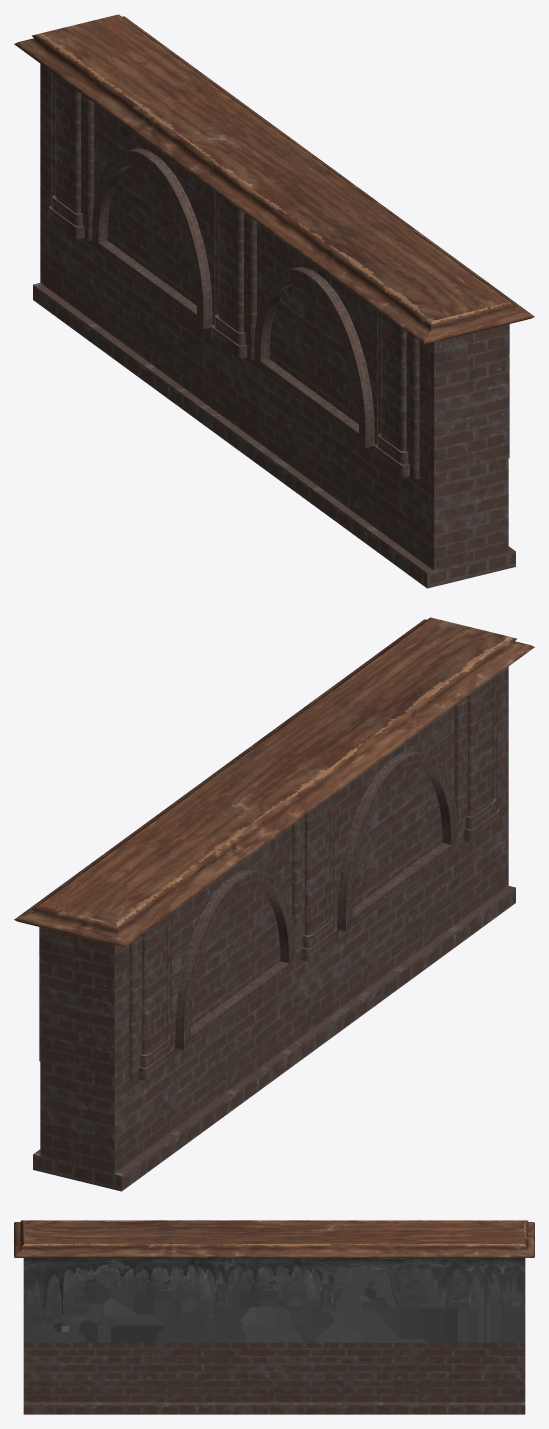
The model's file is Kit_BricksBench.fbx.
3 views of the same model, one above another, from view 1: azimuth 30°, elevation 25°; view 2: azimuth 150°, elevation 25°; view 3: azimuth 270°, elevation 25° (orthographic). The views are drawn at different scales.
Visible parts, largest first — view 1: Kit_BricksBench; view 2: Kit_BricksBench; view 3: Kit_BricksBench.
Part boxes in pixels (x1,y1,x2,y2): Kit_BricksBench: (14, 14, 534, 588); Kit_BricksBench: (14, 617, 534, 1191); Kit_BricksBench: (14, 1220, 534, 1414).
Bounding box in the file's own units: 31.4 × 71.46 × 200.
